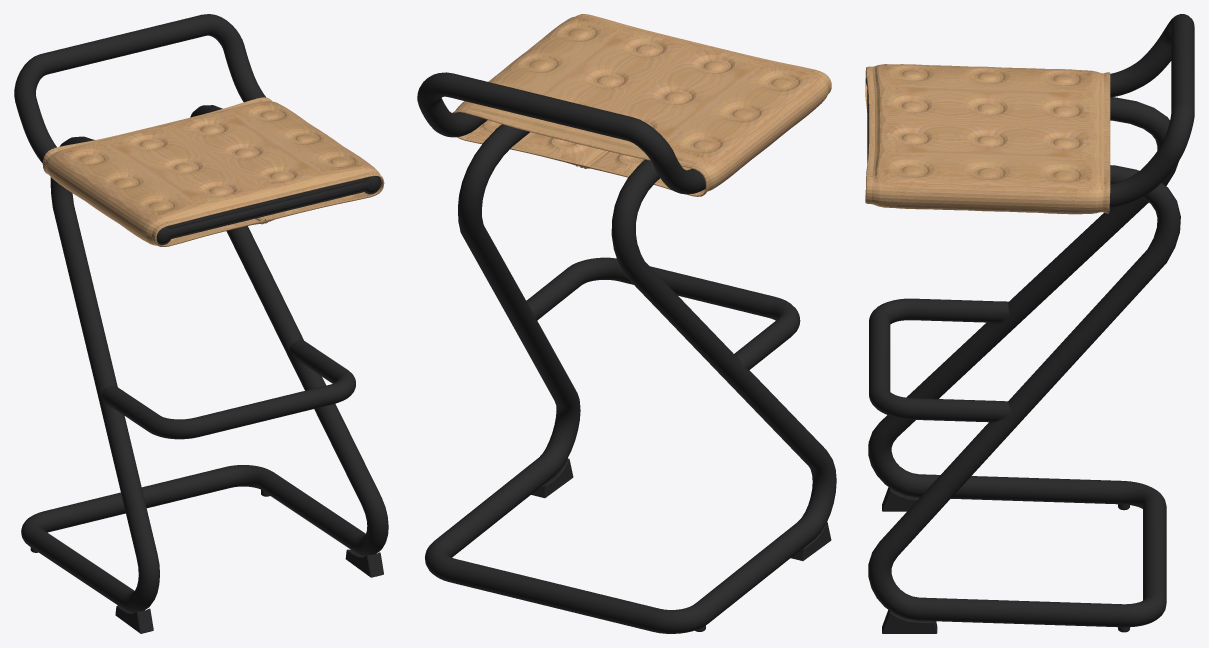
File: Stool01.glb
The picture shows the model from 3 angles, left to right: view 1: azimuth 30°, elevation 25°; view 2: azimuth 150°, elevation 25°; view 3: azimuth 270°, elevation 25°; orthographic projection. The views are drawn at different scales.
Parts seen in each view (by area): view 1: kristalia_free_small, Stool; view 2: kristalia_free_small, Stool; view 3: kristalia_free_small, Stool.
Boxes of the visible parts, left/top/right/bottom form: kristalia_free_small: left=14, top=14, right=388, bottom=612; Stool: left=30, top=97, right=384, bottom=633; kristalia_free_small: left=417, top=72, right=836, bottom=633; Stool: left=452, top=14, right=831, bottom=631; kristalia_free_small: left=866, top=14, right=1194, bottom=627; Stool: left=865, top=64, right=1129, bottom=633.
Bounding box in the file's own units: 0.3525 × 0.6295 × 0.369.
2 materials, 1 textured.
